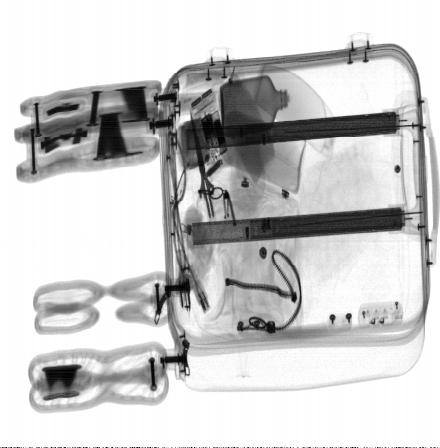Scissors: (190, 107, 228, 251)
